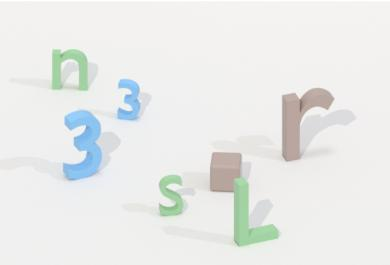0-KhoiVuong: (208, 147, 244, 195)
3: (60, 106, 104, 183), (114, 76, 143, 124)
L: (230, 174, 281, 250)
S: (157, 171, 185, 219)
n: (47, 44, 91, 94)
r: (277, 84, 338, 166)
